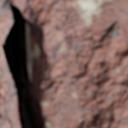broken_brick: (0, 0, 127, 127), (0, 54, 14, 127)
crack: (0, 2, 46, 127)
